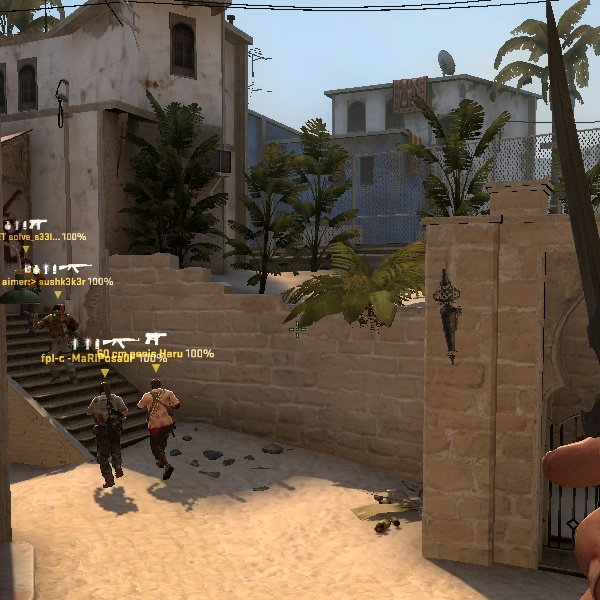t_body: (129, 373, 188, 486), (79, 384, 138, 488)
